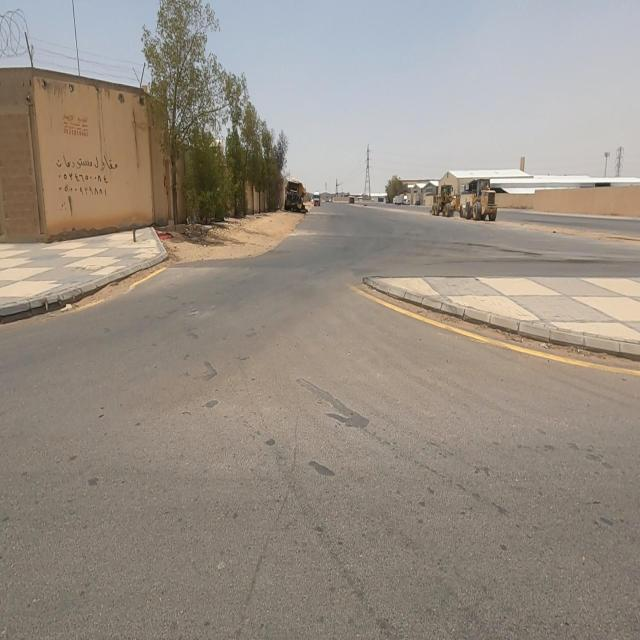Graffiti: (54, 154, 120, 199), (63, 110, 88, 138)
